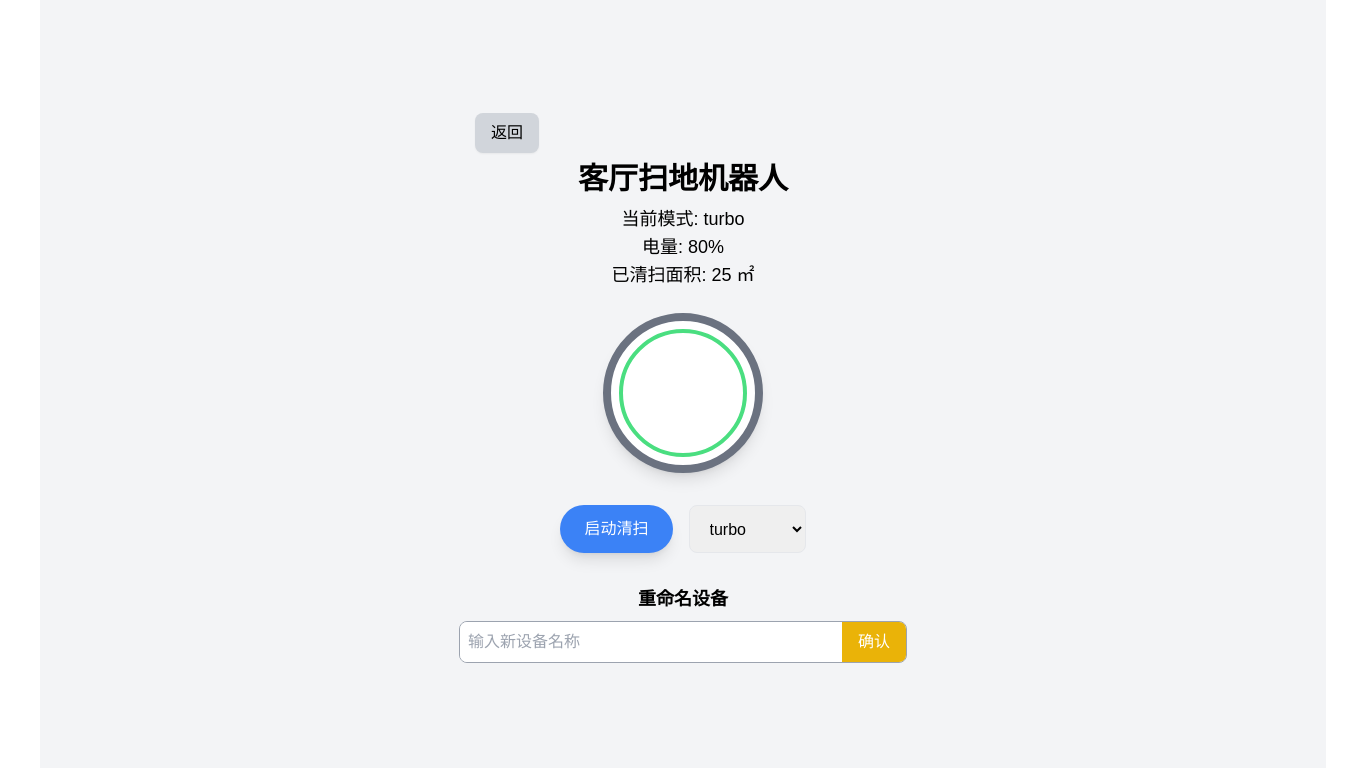
Test: RobotVacuum.vue › 设备重命名 › 成功重命名设备
Type "主卧扫地机器人" into the field with placeholder "输入新设备名称". click: (651, 642)
box: [460,622,842,662]
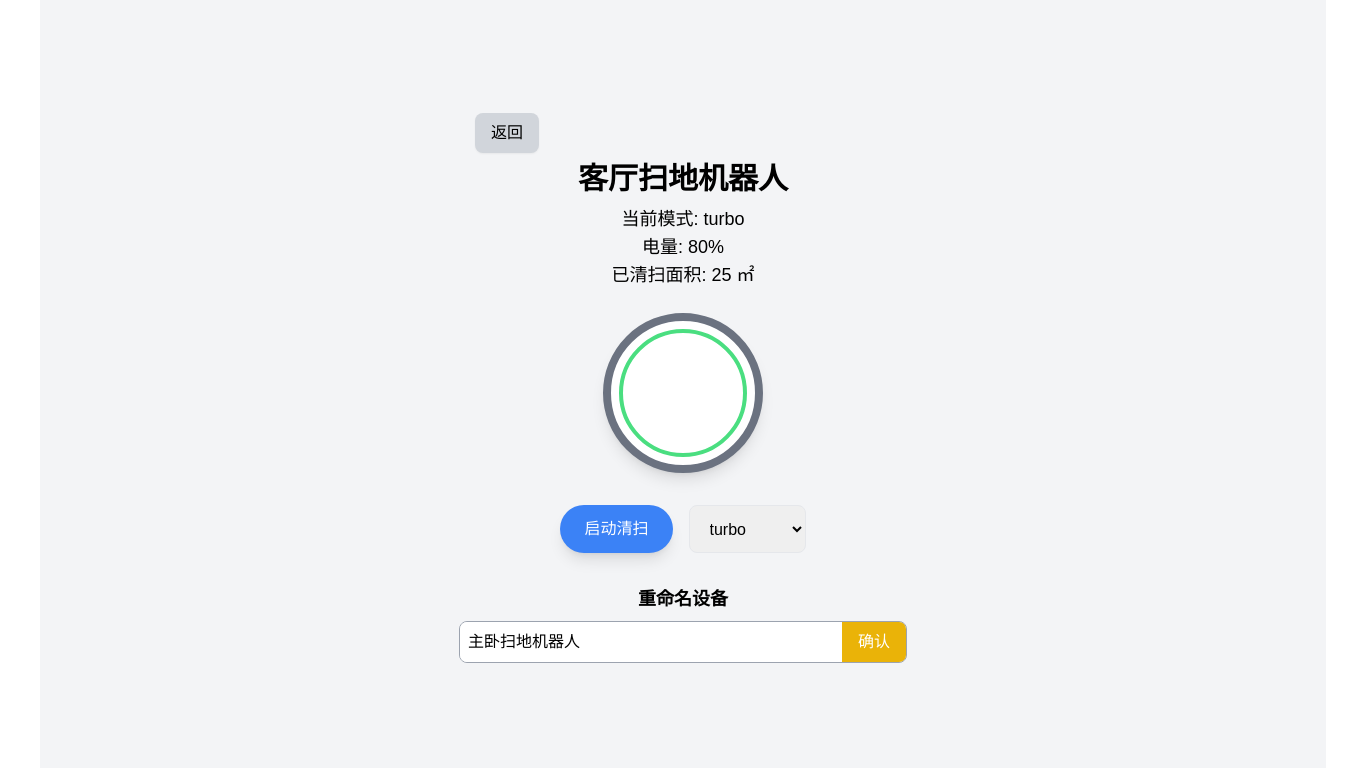
Click the button "确认". click: (874, 642)
box: [842,622,906,662]
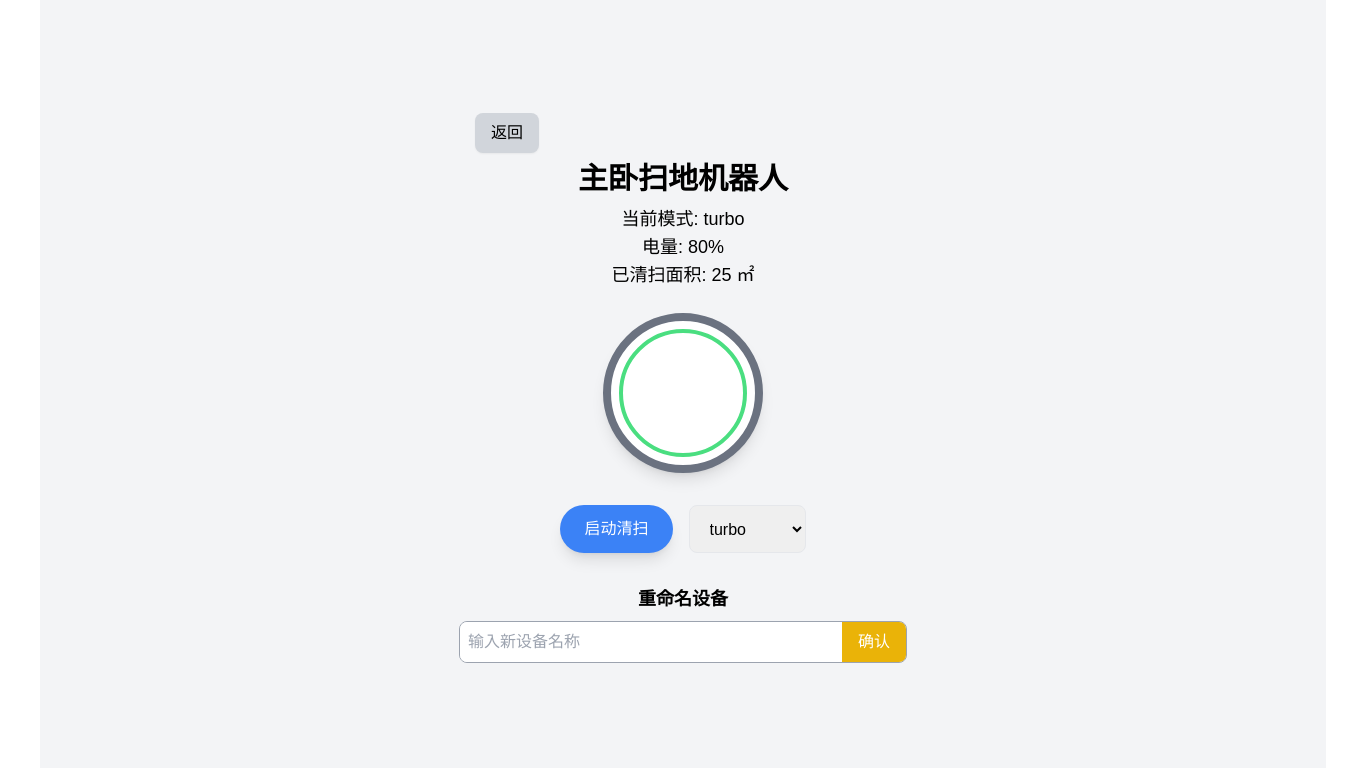
Result: the heading "主卧扫地机器人" is shown at [578,161,788,197]
